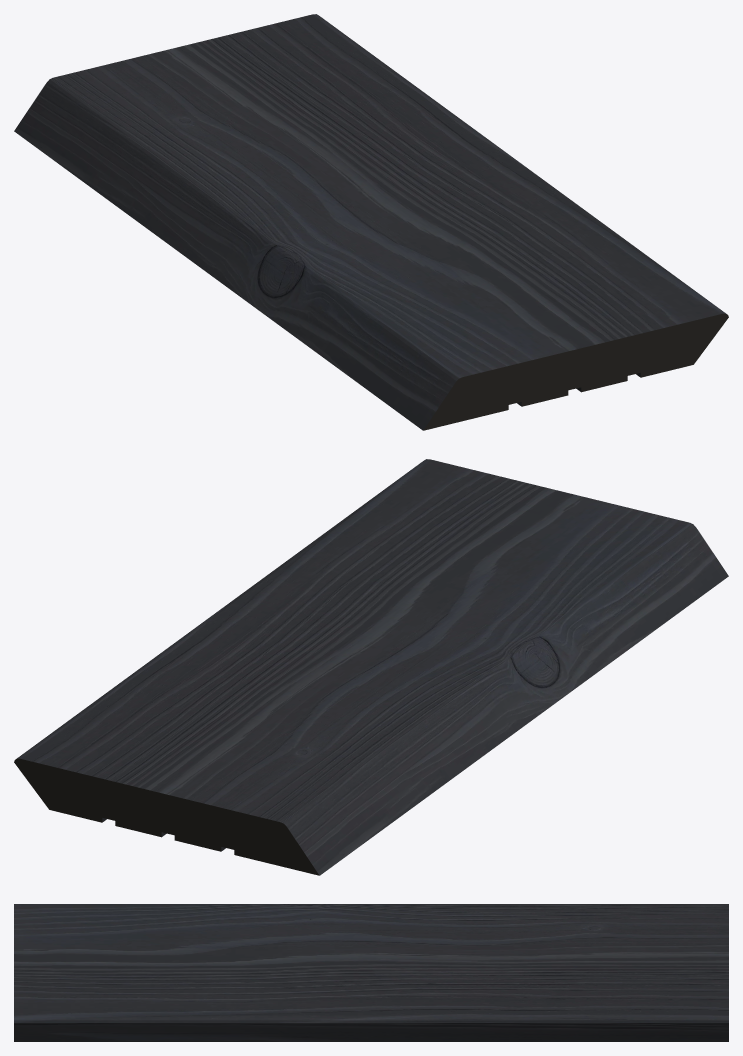
Rendered from larch-facade-rhombus-graphite.glb.
3 views of the same model, one above another, from view 1: azimuth 30°, elevation 25°; view 2: azimuth 150°, elevation 25°; view 3: azimuth 270°, elevation 25° (orthographic). The views are drawn at different scales.
Parts seen in each view (by area): view 1: Rombas; view 2: Rombas; view 3: Rombas.
Boxes of the visible parts, x1,y1,x2,y2 form: Rombas: (14,14,728,430); Rombas: (14,459,728,875); Rombas: (14,904,728,1041).
Bounding box in the file's own units: 0.0723 × 0.00995 × 0.1675.
3 materials, 1 textured.
